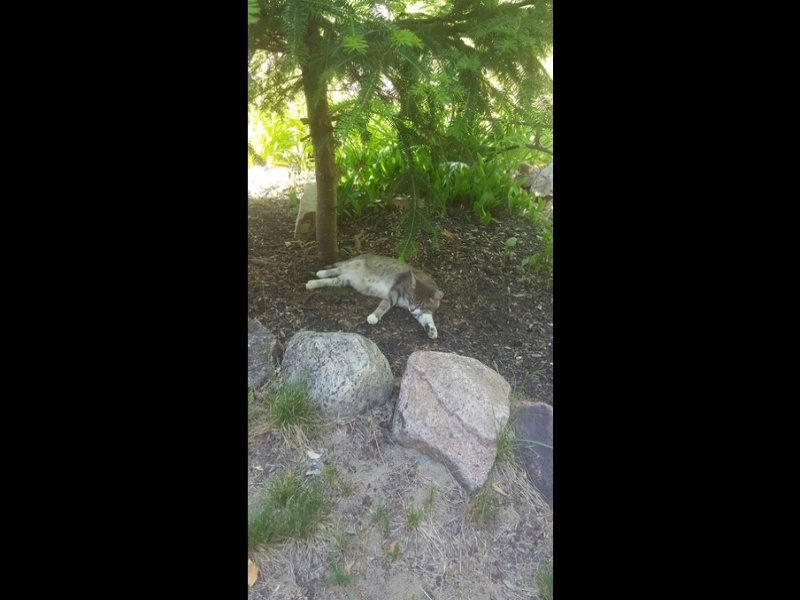cat: (300, 244, 446, 339)
